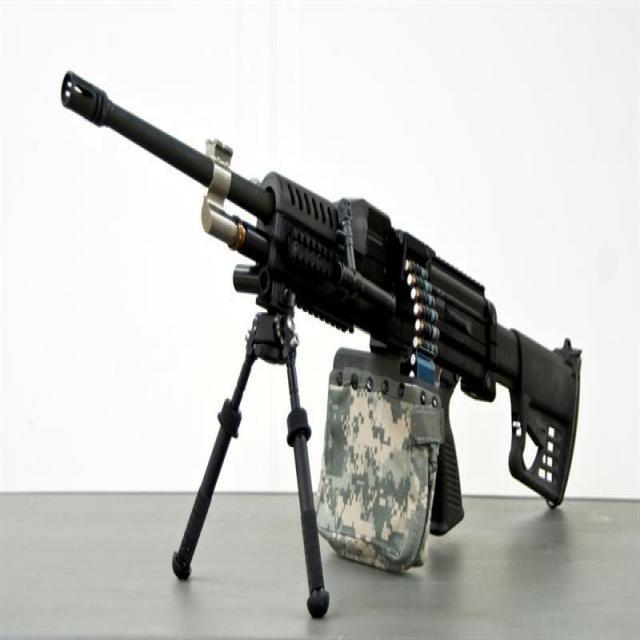weapon: (58, 70, 582, 620)
